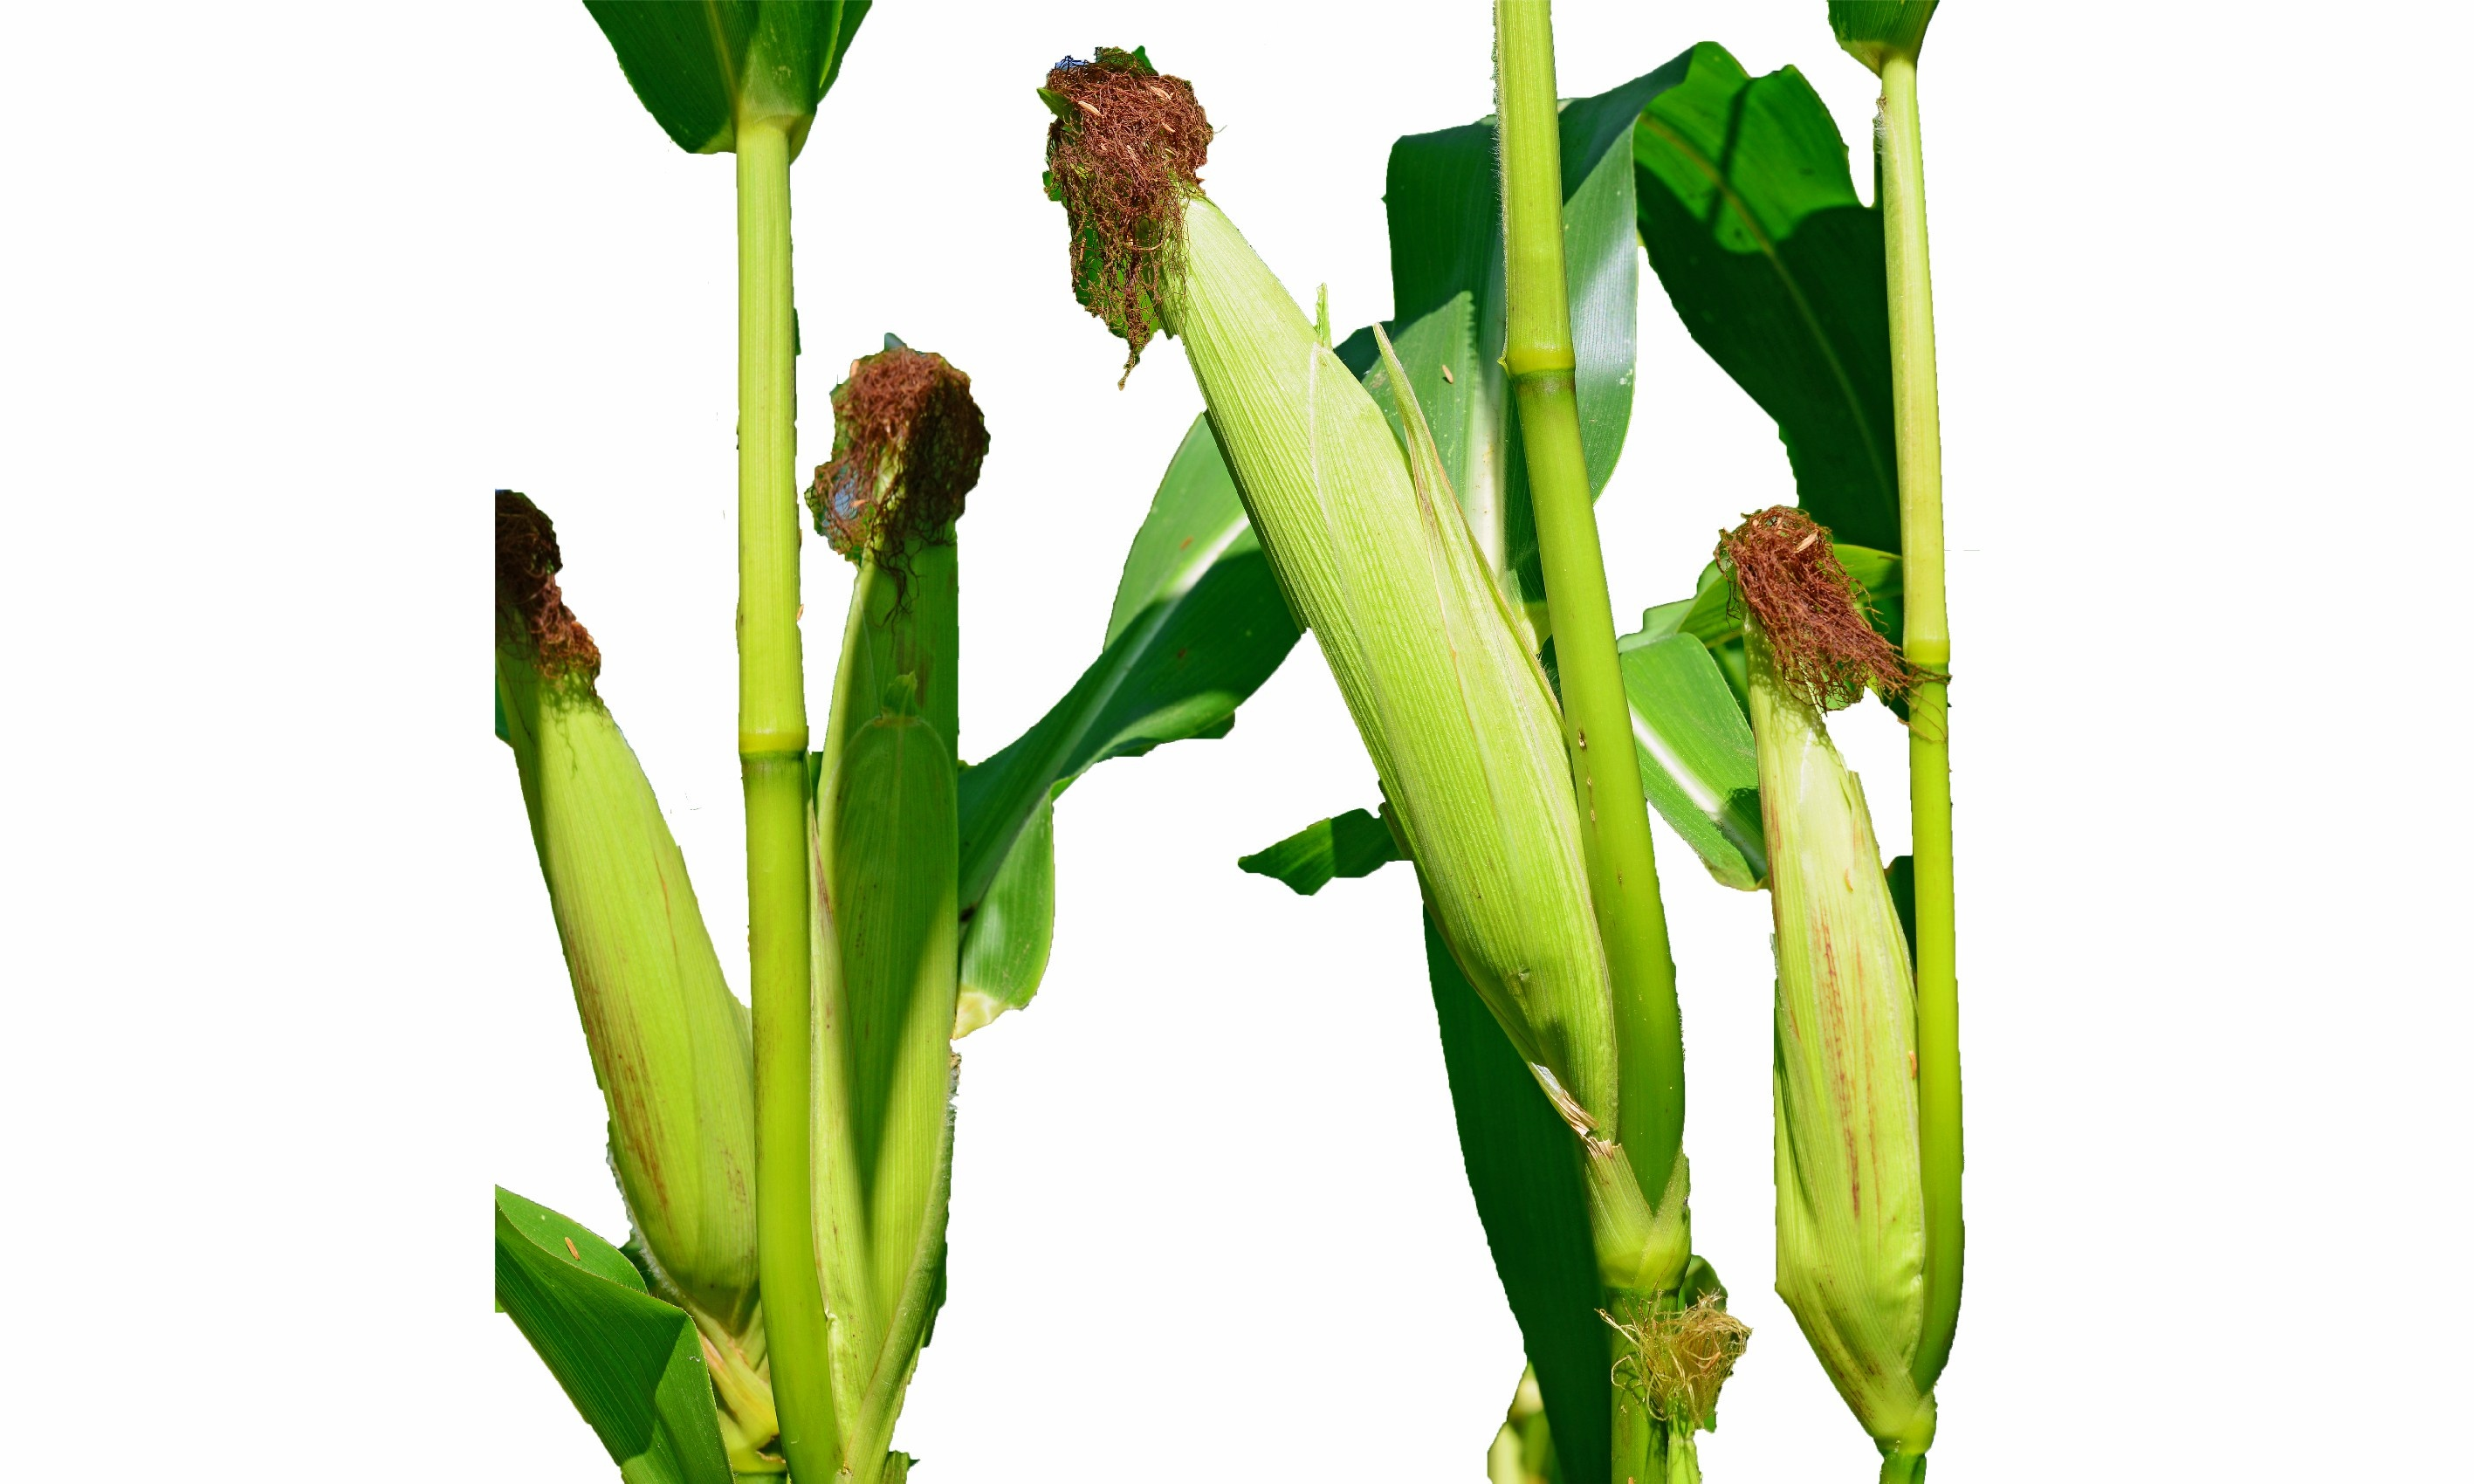corn_plant: (1038, 25, 1686, 1267), (1701, 493, 1995, 1454), (498, 486, 788, 1410), (805, 344, 1022, 1479)
